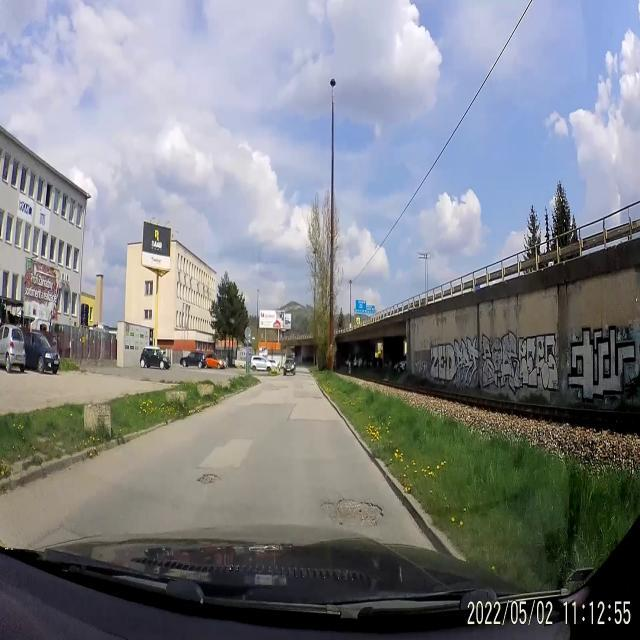Pothole: (318, 490, 386, 530), (196, 468, 223, 488)
